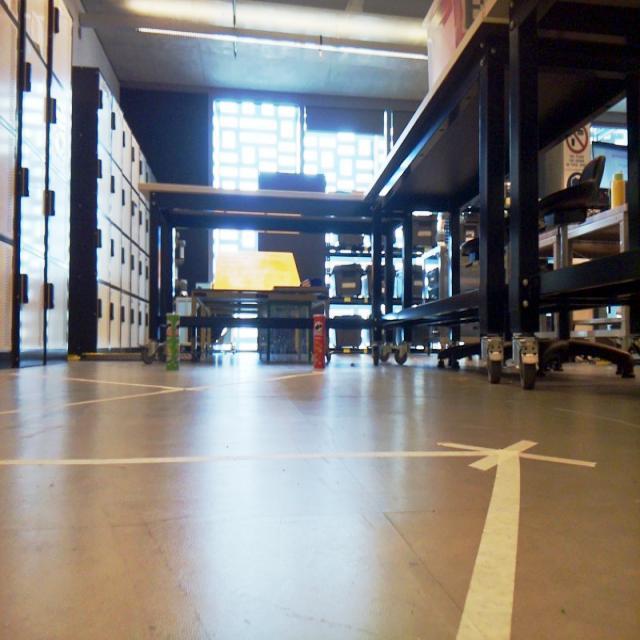greenpringles: (156, 313, 184, 365)
redpringles: (307, 308, 335, 374)
